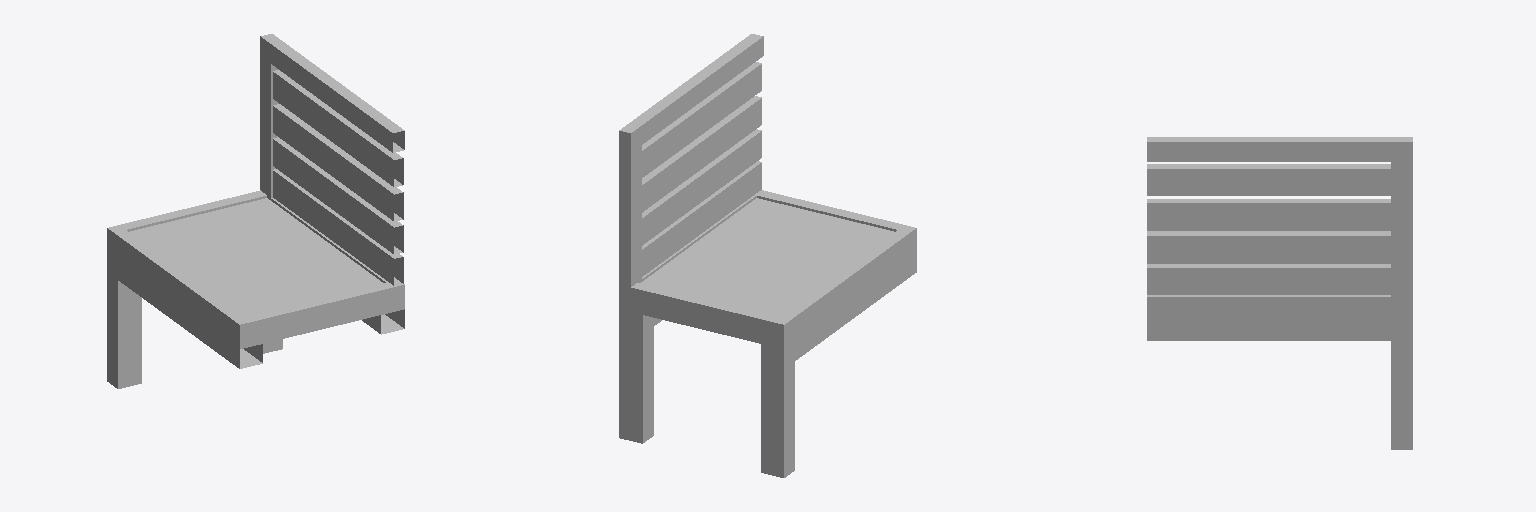
File: benchleftz+.obj
The picture shows the model from 3 angles: view 1: azimuth 30°, elevation 25°; view 2: azimuth 150°, elevation 25°; view 3: azimuth 270°, elevation 25°; orthographic projection.
Parts seen in each view (by area): view 1: chair_bedx+.042; view 2: chair_bedx+.042; view 3: chair_bedx+.042.
Boxes of the visible parts, x1,y1,x2,y2 form: chair_bedx+.042: [107, 34, 404, 388]; chair_bedx+.042: [619, 34, 916, 477]; chair_bedx+.042: [1147, 137, 1412, 449].
Size of the model in its own units: 0.7 by 1.25 by 0.9737.